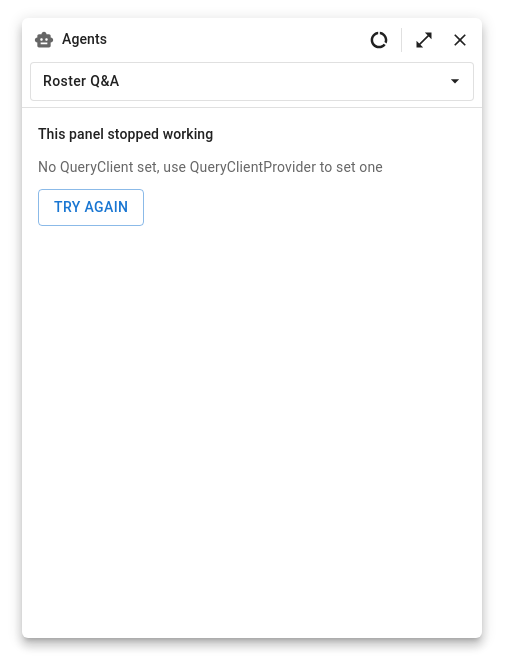
it: staffing proposal approval (P1T-100) › sends nothing when a rejection is armed, and Back disarms it
Click the button "Roster Q&A": point(81, 81) [30, 62, 474, 100]
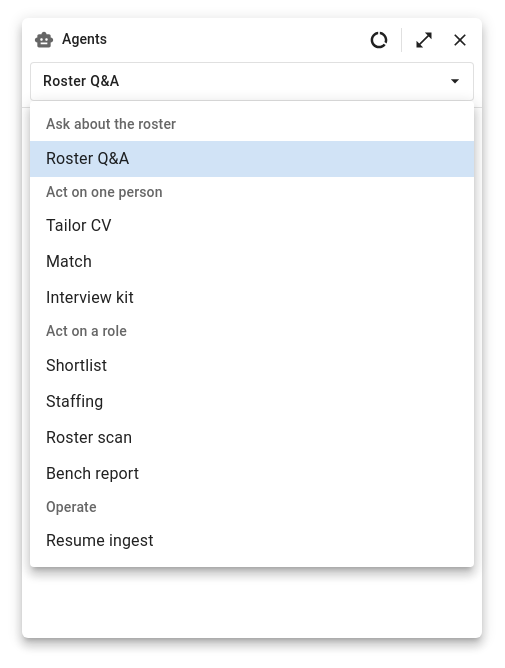
Click the menu item "Staffing": point(75, 401) [46, 392, 104, 410]
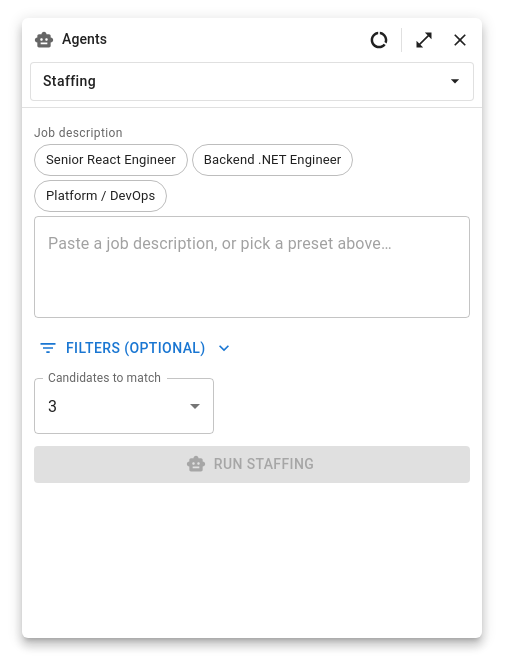
In the text box with placeholder "Paste a job description, or pick a preset above…": point(252, 266) [48, 232, 456, 301], type "Senior React engineer"
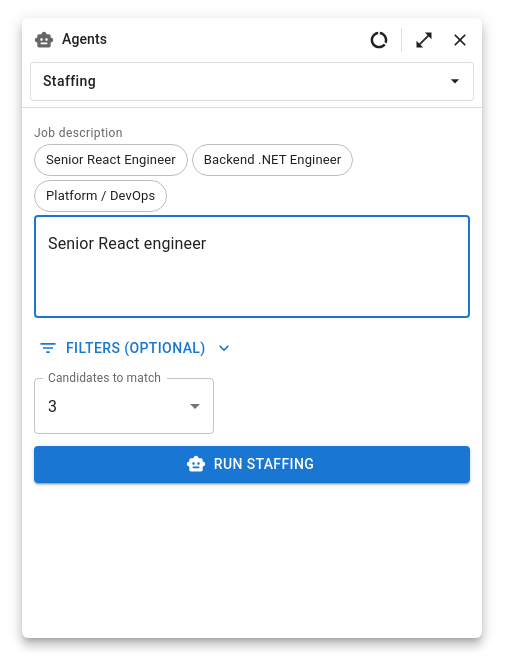
Click the button "Run staffing": point(252, 464) [34, 446, 470, 482]
(page scrolled)
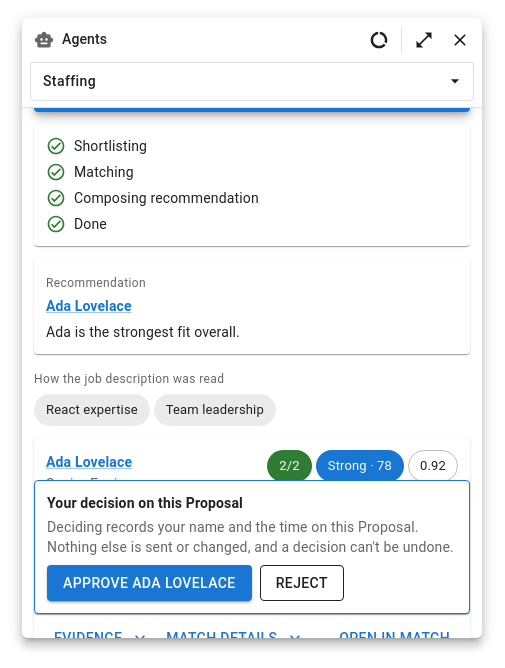
Check: the element with test id "staffing-recommendation" is shown, box [34, 258, 470, 354]
Click the button "Reject": point(302, 583) [260, 564, 344, 601]
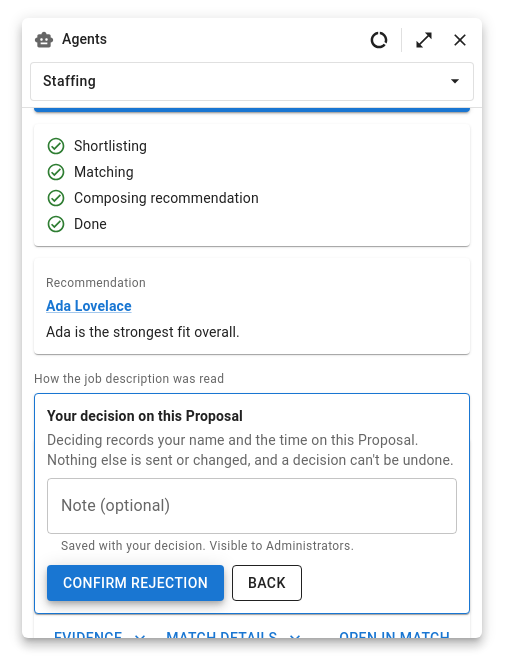
Click the button "Back": point(267, 583) [232, 564, 302, 601]
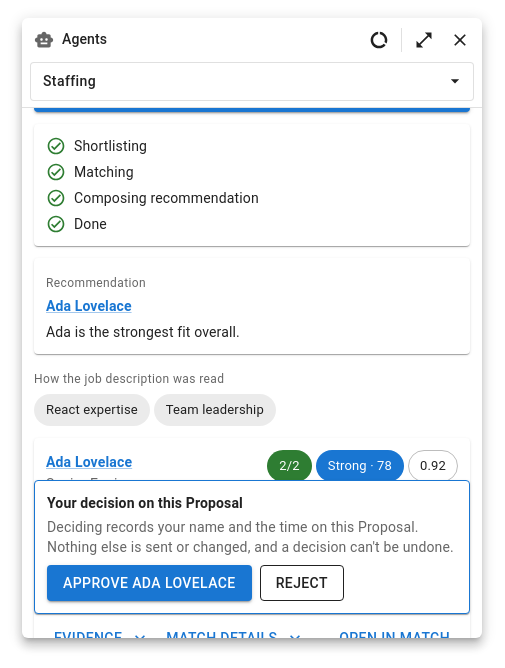
Check: the button "Approve Ada Lovelace" is shown, box [47, 564, 252, 601]
Check: the button "Confirm rejection" is gone
